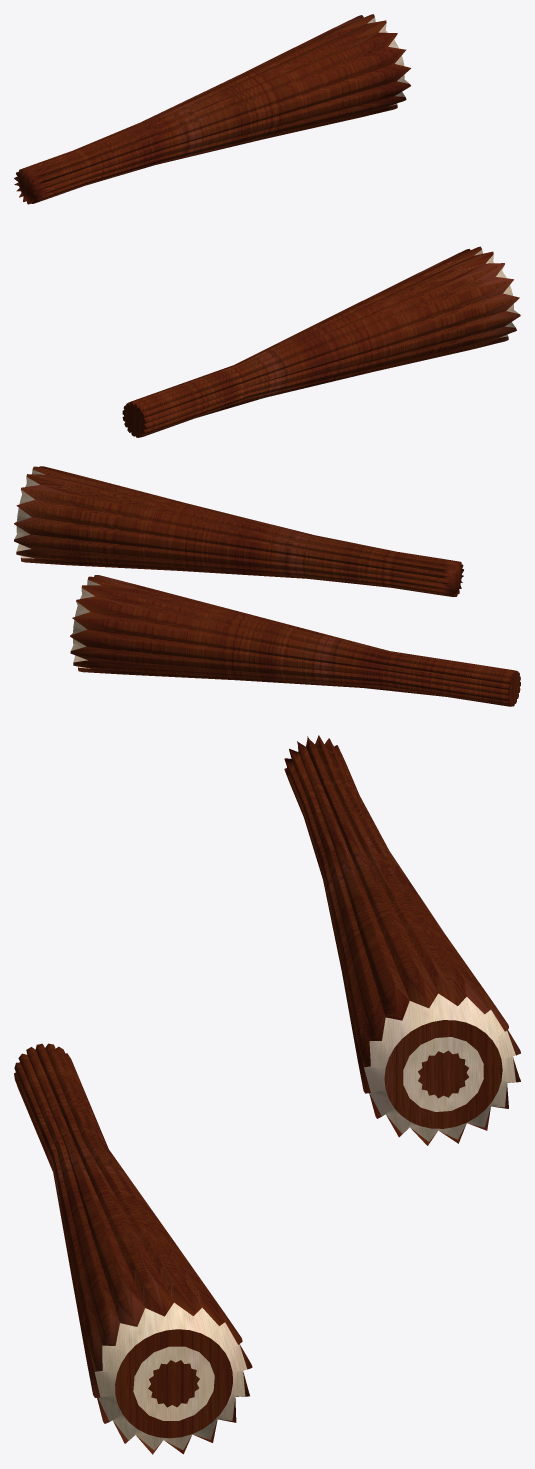
Rendered from 右弦轴.FBX.
The picture shows the model from 3 angles, top to bottom: view 1: azimuth 30°, elevation 25°; view 2: azimuth 150°, elevation 25°; view 3: azimuth 270°, elevation 25°; orthographic projection. The views are drawn at different scales.
Visible parts, largest first — view 1: 对象001, 对象003; view 2: 对象001, 对象003, 对象048, 对象047; view 3: 对象001, 对象003, 对象047, 对象048.
Part boxes in pixels (x1,y1,x2,y2): 对象001: (14,14,410,204); 对象003: (122,246,520,437); 对象001: (14,466,463,596); 对象003: (70,575,520,706); 对象048: (14,469,45,558); 对象047: (70,580,100,668); 对象001: (284,735,520,1145); 对象003: (14,1043,252,1454); 对象047: (94,1302,247,1450); 对象048: (364,993,515,1141).
Size of the model in its own units: 85.1 by 50.47 by 53.46.
4 materials, 4 textured.
